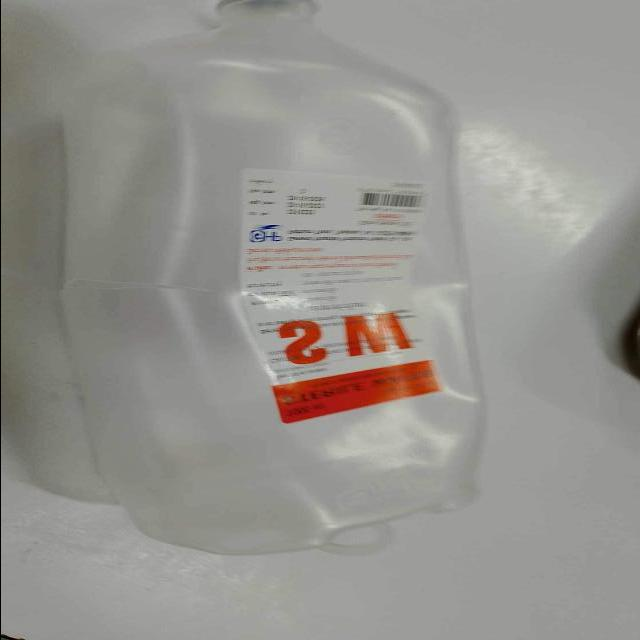General: (237, 167, 443, 427)
Infectious: (3, 2, 489, 558)
